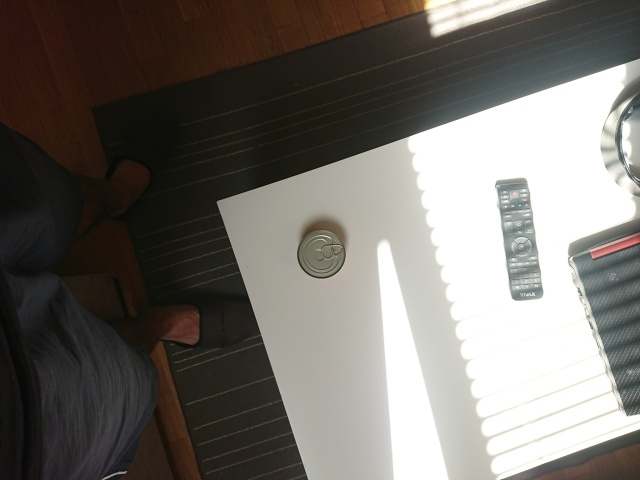Gavrilovic Pork Liver Pate 100g: (295, 227, 346, 279)
